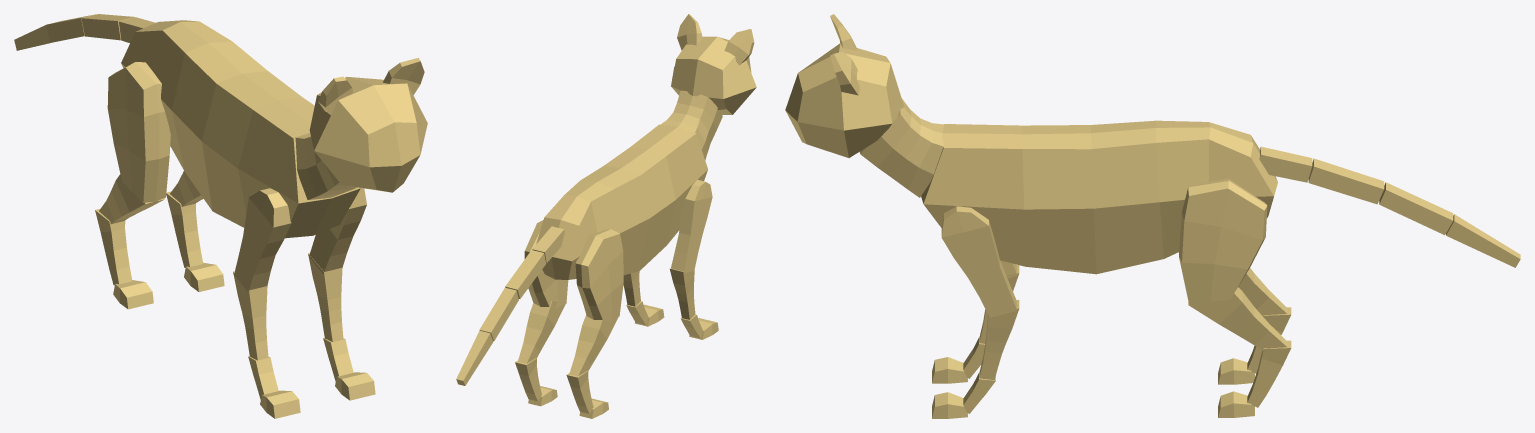
The model's file is kedidle.fbx.
3 renders of one model, left to right at view 1: azimuth 30°, elevation 25°; view 2: azimuth 150°, elevation 25°; view 3: azimuth 270°, elevation 25°, orthographic. The views are drawn at different scales.
Parts seen in each view (by area): view 1: Cat_GEO; view 2: Cat_GEO; view 3: Cat_GEO.
Boxes of the visible parts, x1,y1,x2,y2 form: Cat_GEO: [14, 14, 427, 418]; Cat_GEO: [456, 14, 756, 418]; Cat_GEO: [785, 14, 1520, 418].
Bounding box in the file's own units: 11.67 × 36.86 × 67.97.
